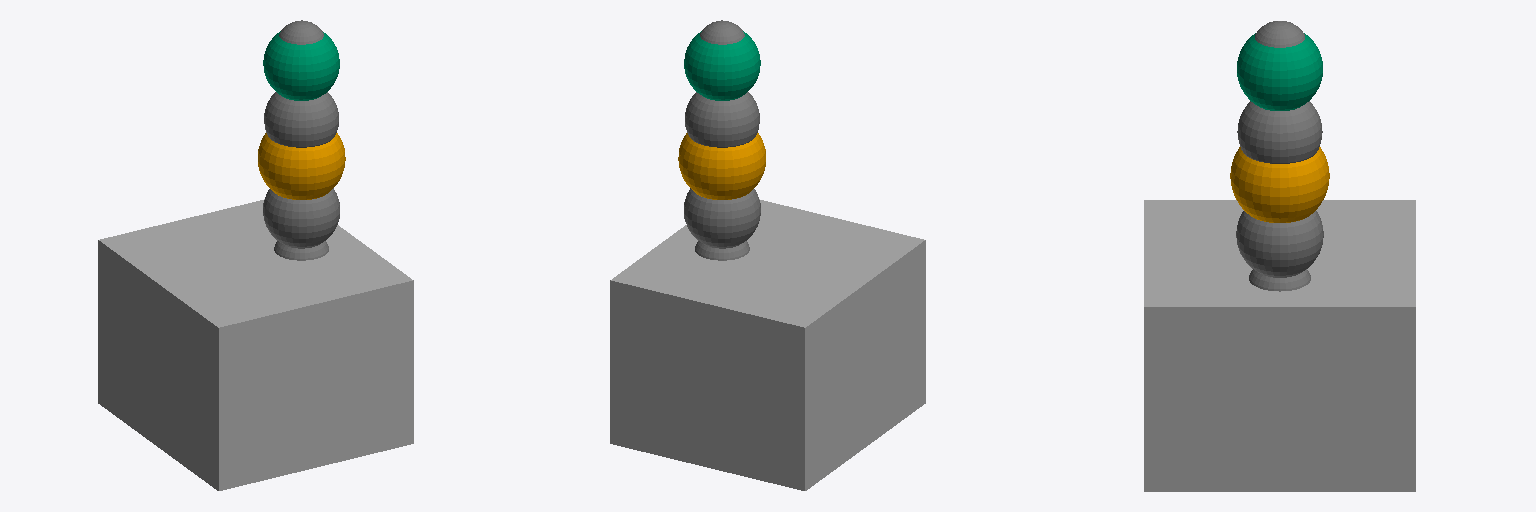
URDF robot description (hyuspa):
<?xml version="1.0" ?>
<robot name="hyuspa">
  <link name="world">
      <inertial>
          <mass value="0.000001" />
          <origin xyz="0.0 0.0 0.0" rpy="0 0 0" />
          <inertia ixx="0.000001" ixy="0" ixz="0" iyy="0.000001" iyz="0" izz="0.000001" />
      </inertial>
  </link>
   <joint name="lin_x_joint" type="fixed">
    <origin rpy="0 0 0" xyz="0 0 0"/>
    <axis xyz="1 0 0"/>
    <limit effort="1000.0" lower="-1e+16" upper="1e+16" velocity="3.5"/>
    <joint_properties damping="1" friction="1"/>
    <parent link="world"/>
    <child link="lin_x_link"/>
  </joint>
  <link name="lin_x_link">
      <inertial>
          <mass value="0.000001" />
          <origin xyz="0.0 0.0 0.0" rpy="0 0 0" />
          <inertia ixx="0.000001" ixy="0" ixz="0" iyy="0.000001" iyz="0" izz="0.000001" />
      </inertial>
  </link>
  <joint name="lin_y_joint" type="fixed">
    <origin rpy="0 0 0" xyz="0 0 0"/>
    <axis xyz="0 1 0"/>
    <limit effort="1000.0" lower="-1e+16" upper="1e+16" velocity="3.5"/>
    <joint_properties damping="1" friction="1"/>
    <parent link="lin_x_link"/>
    <child link="lin_y_link"/>
  </joint>
  <link name="lin_y_link">
      <inertial>
          <mass value="0.000001" />
          <origin xyz="0.0 0.0 0.0" rpy="0 0 0" />
          <inertia ixx="0.000001" ixy="0" ixz="0" iyy="0.000001" iyz="0" izz="0.000001" />
      </inertial>
  </link>
  <joint name="rot_z_joint" type="fixed">
    <origin rpy="0 0 0" xyz="0 0 0"/>
    <axis xyz="0 0 1"/>
    <limit effort="1000.0" lower="-1e+16" upper="1e+16" velocity="3.5"/>
    <joint_properties damping="1" friction="1"/>
    <parent link="lin_y_link"/>
    <child link="base_link"/>
  </joint>
    <link name="base_link">
      <inertial>
          <mass value="0.000001" />
          <origin xyz="0.0 0.0 0.0" rpy="0 0 0" />
          <inertia ixx="0.000001" ixy="0" ixz="0" iyy="0.000001" iyz="0" izz="0.000001" />
      </inertial>
  </link>
  <joint name="world_to_base_joint" type="fixed">
      <axis xyz="0 1 0"/>
    <parent link="base_link"/>
    <child link="Mobile_base"/>
    <origin rpy="0 0 0" xyz="0 0 0"/>
  </joint>
  
  <link name="Mobile_base">
    <inertial>
      <origin rpy="0 0 0" xyz="0.0 0 0.0"/>
      <mass value="20"/>
	<inertia  ixx="0.6364809810908426" ixy="0" ixz="0" iyy="0.548438298901579" iyz="0" izz="1.0998113136639867" />


    </inertial>
    <visual>
      <origin rpy="0 0 0" xyz="0 0 0"/>
      <geometry>
        <mesh filename="mesh/mobile_base.stl" scale="1 1 1"/>
      </geometry>
            <material name="lightgray">
        <color rgba="0.7 0.7 0.7 1"/>
      </material>
    </visual>
    <collision>
      <origin rpy="0 0 0" xyz="0 0 0"/>
	   <geometry>
           <mesh filename="mesh/mobile_base.stl" scale="1 1 1"/>
	   </geometry>
		</collision>
  </link>
  
  
  
<link name="left_front_wheel">
		<inertial>
			<origin rpy="0.00000 -0.00000 0.00000" xyz="0.00000 0.00000 0.00000"/>
						<mass value="2.00000"/>
<inertia  ixx="0.004202690800558223" ixy="0" ixz="0" iyy="0.00760033113725996" iyz="0" izz="0.004202690800558223" />

		</inertial>
		<visual>
			<origin rpy="0.00000 -0.00000 0.00000" xyz="0.00000 0.00000 0.00000"/>
			<geometry>
				<mesh filename="mesh/wheel.stl" scale="1.00000 1.00000 1.00000"/>
			</geometry>
		   	 <material name="dark">
	    		    <color rgba="0.3 0.3 0.3 1"/>
	     		 </material>

		</visual>
		<collision>
			<origin rpy="0.00000 -0.00000 0.00000" xyz="0.00000 0.00000 0.00000"/>
			<geometry>
                              <sphere radius="0.0755"/>
			</geometry>
		</collision>
</link>
<link name="right_front_wheel">
		<inertial>
			<origin rpy="0.00000 -0.00000 0.00000" xyz="0.00000 0.00000 0.00000"/>
			<mass value="2.00000"/>
<inertia  ixx="0.004202690800558223" ixy="0" ixz="0" iyy="0.00760033113725996" iyz="0" izz="0.004202690800558223" />

		</inertial>
		<visual>
			<origin rpy="0.00000 -0.00000 0.00000" xyz="0.00000 0.00000 0.00000"/>
			<geometry>
				<mesh filename="mesh/wheel.stl" scale="1.00000 1.00000 1.00000"/>
			</geometry>
		   	 <material name="dark">
	    		    <color rgba="0.3 0.3 0.3 1"/>
	     		 </material>

		</visual>
		<collision>
			<origin rpy="0.00000 -0.00000 0.00000" xyz="0.00000 0.00000 0.00000"/>
			<geometry>
                              <sphere radius="0.0755"/>
			</geometry>
		</collision>
</link>
<link name="left_back_wheel">
		<inertial>
			<origin rpy="0.00000 -0.00000 0.00000" xyz="0.00000 0.00000 0.00000"/>
						<mass value="2.00000"/>
<inertia  ixx="0.004202690800558223" ixy="0" ixz="0" iyy="0.00760033113725996" iyz="0" izz="0.004202690800558223" />

		</inertial>
		<visual>
			<origin rpy="0.00000 -0.00000 0.00000" xyz="0.00000 0.00000 0.00000"/>
			<geometry>
				<mesh filename="mesh/wheel.stl" scale="1.00000 1.00000 1.00000"/>
			</geometry>
		   	 <material name="dark">
	    		    <color rgba="0.3 0.3 0.3 1"/>
	     		 </material>

		</visual>
		<collision>
			<origin rpy="0.00000 -0.00000 0.00000" xyz="0.00000 0.00000 0.00000"/>
			<geometry>
                              <sphere radius="0.0755"/>
			</geometry>
		</collision>
</link>
<link name="right_back_wheel">
		<inertial>
			<origin rpy="0.00000 -0.00000 0.00000" xyz="0.00000 0.00000 0.00000"/>
						<mass value="2.00000"/>
<inertia  ixx="0.004202690800558223" ixy="0" ixz="0" iyy="0.00760033113725996" iyz="0" izz="0.004202690800558223" />

		</inertial>
		<visual>
			<origin rpy="0.00000 -0.00000 0.00000" xyz="0.00000 0.00000 0.00000"/>
			<geometry>
				<mesh filename="mesh/wheel.stl" scale="1.00000 1.00000 1.00000"/>
			</geometry>
		   	 <material name="dark">
	    		    <color rgba="0.3 0.3 0.3 1"/>
	     		 </material>

		</visual>
		<collision>
			<origin rpy="0.00000 -0.00000 0.00000" xyz="0.00000 0.00000 0.00000"/>
			<geometry>
                              <sphere radius="0.0755"/>
			</geometry>
		</collision>
</link>
	<joint name="left_front_wheel_joint" type="fixed">
		<parent link="Mobile_base"/>
		<child link="left_front_wheel"/>
		<dynamics damping="1.0" friction="0.01"/>
		<origin rpy="0 0.00000 0.00000" xyz="-0.20100 0.29320 0.0755"/>
		<axis xyz="0.00000 0.00000 1.00000"/>
	</joint>
  	<joint name="right_front_wheel_joint" type="fixed">
		<parent link="Mobile_base"/>
		<child link="right_front_wheel"/>
		<dynamics damping="1.0" friction="0.01"/>
		<origin rpy="0 -0.00000 0.00000" xyz="-0.20100 -0.29320 0.0755"/>
		<axis xyz="0.00000 0.00000 1.00000"/>
	</joint>
	<joint name="left_back_wheel_joint" type="fixed">
		<parent link="Mobile_base"/>
		<child link="left_back_wheel"/>
		<dynamics damping="1.0" friction="0.01"/>
		<origin rpy="0 0.00000 0.00000" xyz="0.20100 0.29320 0.0755"/>
		<axis xyz="0.00000 0.00000 1.00000"/>
	</joint>	
  	<joint name="right_back_wheel_joint" type="fixed">
		<parent link="Mobile_base"/>
		<child link="right_back_wheel"/>
		<dynamics damping="1.0" friction="0.01"/>
		<origin rpy="0 -0.00000 0.00000" xyz="0.20100 -0.29320 0.0755"/>
		<axis xyz="0.00000 0.00000 1.00000"/>
	</joint>
  
    
  
  
  
  
  <joint name="Mobile_to_profile" type="fixed">
      <axis xyz="0 1 0"/>
    <parent link="Mobile_base"/>
    <child link="Base_profile"/>
    <origin rpy="0 0 1.57" xyz="0.1595 0 0.191"/>
  </joint>
  
 <joint name="Base_battery_joint" type="fixed">
      <axis xyz="0 0 1"/>
    <parent link="Mobile_base"/>
    <child link="Battery"/>
    <origin rpy="0 0 0" xyz="0 0 0.191"/>
  </joint>
<link name="Battery">
    <inertial>
      <origin rpy="0 0 0" xyz="0.0 0 0.0"/>
      <mass value="10"/>
		<inertia  ixx="0.19885759196781463" ixy="0" ixz="0" iyy="0.06527160403076862" iyz="0" izz="0.23385201533248226" />


    </inertial>
    <visual>
      <origin rpy="0 0 0" xyz="0 0 0"/>
      <geometry>
        <mesh filename="mesh/battery.stl" scale="1 1 1"/>
      </geometry>
            <material name="green">
        <color rgba="0.3 0.6 0.3 1"/>
      </material>
    </visual>
    <collision>
      <origin rpy="0 0 0" xyz="0 0 0"/>
	   <geometry>
           <mesh filename="mesh/battery.stl" scale="1 1 1"/>
	   </geometry>
		</collision>
  </link>





<link name="Base_profile">
    <inertial>
      <origin rpy="0 0 0" xyz="0.0 0 0.0"/>
      <mass value="2"/>
      <inertia  ixx="0.011483333484331771" ixy="0" ixz="0" iyy="0.011483333285649617" iyz="0" izz="0.0021333334366480565" />


    </inertial>
    <visual>
      <origin rpy="0 0 0" xyz="0 0 0"/>
      <geometry>
        <mesh filename="mesh/base_profile.stl" scale="1 1 1"/>
      </geometry>
            <material name="lightgray">
        <color rgba="0.7 0.7 0.7 1"/>
      </material>
    </visual>
    <collision>
      <origin rpy="0 0 0" xyz="0 0 0"/>
	   <geometry>
           <mesh filename="mesh/base_profile.stl" scale="1 1 1"/>
	   </geometry>
		</collision>
  </link>

 
<joint name="Base_profile_joint" type="fixed">
      <axis xyz="0 0 1"/>
    <parent link="Base_profile"/>
    <child link="FT_sensor1"/>
    <origin rpy="0 0 0" xyz="0 0 0.25"/>
  </joint>
  
  
    <link name="FT_sensor1">
    <inertial>
      <origin rpy="0 0 0" xyz="0.0 0 0.0"/>
      <mass value="0.50"/>
		<inertia  ixx="0.00037817710459232357" ixy="0" ixz="0" iyy="0.0004919276651402816" iyz="0" izz="0.0006740839248359706" />


    </inertial>
    <visual>
      <origin rpy="0 0 0" xyz="0 0 0"/>
      <geometry>
        <mesh filename="mesh/FT_sensor1.stl" scale="1 1 1"/>
      </geometry>
            <material name="orange">
        <color rgba="1 0.5 0.5 1"/>
      </material>
    </visual>
    <collision>
      <origin rpy="0 0 0" xyz="0 0 0"/>
	   <geometry>
           <mesh filename="mesh/FT_sensor1.stl" scale="1 1 1"/>
	   </geometry>
		</collision>
  </link>

<joint name="FT_sensor_joint1" type="fixed">
      <axis xyz="0 0 1"/>
    <parent link="FT_sensor1"/>
    <child link="FT_sensor2"/>
    <origin rpy="0 0 0" xyz="0 0 0.0435"/>
  </joint>
  
      <link name="FT_sensor2">
    <inertial>
      <origin rpy="0 0 0" xyz="0.0 0 0.049473"/>
      <mass value="0.10"/>
	<inertia  ixx="5.434167420566109e-05" ixy="0" ixz="0" iyy="5.434167420566109e-05" iyz="0" izz="0.00010666668176651054" />

    </inertial>
    <visual>
      <origin rpy="0 0 0" xyz="0 0 0"/>
      <geometry>
        <mesh filename="mesh/FT_sensor2.stl" scale="1 1 1"/>
      </geometry>
            <material name="orange">
        <color rgba="1 0.5 0.5 1"/>
      </material>
    </visual>
    <collision>
      <origin rpy="0 0 0" xyz="0 0 0"/>
	   <geometry>
           <mesh filename="mesh/FT_sensor2.stl" scale="1 1 1"/>
	   </geometry>
		</collision>
  </link>
<joint name="FT_sensor_joint2" type="fixed">
      <axis xyz="0 0 1"/>
    <parent link="FT_sensor2"/>
    <child link="SPA_Base_Link"/>
    <origin rpy="0 0 0" xyz="0 0 0.011"/>
  </joint>
  

  <link name="SPA_Base_Link">
    <inertial>
      <origin rpy="0 0 0" xyz="0.0 0 0.049473"/>
      <mass value="0.70"/>
       <inertia  ixx="0.0010029327106437908" ixy="0" ixz="0" iyy="0.0010029327106437908" iyz="0" izz="0.0007466666332880659" />

    </inertial>
    <visual>
      <origin rpy="0 0 0" xyz="0 0 0"/>
      <geometry>
        <mesh filename="mesh/SPA_Base_Link_.stl" scale="1 1 1"/>
      </geometry>
            <material name="darkgray">
        <color rgba="0.5 0.5 .5 1"/>
      </material>
    </visual>
    <collision>
      <origin rpy="0 0 0" xyz="0 0 0"/>
	   <geometry>
           <mesh filename="mesh/SPA_Base_Link_.stl" scale="1 1 1"/>
	   </geometry>
		</collision>
  </link>

 <joint name="Arm_Joint_1" type="revolute">
    <axis xyz="0 0 1"/>
    <limit effort="50" lower="-2.63" upper="1.57" velocity="4"/>
    <origin rpy="0 0 0" xyz="0 0 0.1007"/>
    <!--<origin rpy="0 0 0" xyz="0 -0.3107 1.567"/>-->
    <parent link="SPA_Base_Link"/>
    <child link="SPA_Link_01"/>
    <dynamics damping="0.0" friction="0.7"/>
  </joint>

  <link name="SPA_Link_01">
    <inertial>
      <mass value="0.63842732"/>
      <origin rpy="0 0 0" xyz="0.001501 0 0.042572"/>
      <inertia  ixx="0.0006373691668954742" ixy="0" ixz="0" iyy="0.000849839011803842" iyz="0" izz="0.0006631363980959179" />
    </inertial>
    <visual>
      <origin rpy="0 0 0" xyz="0 0 0"/>
      <geometry>
        <mesh filename="mesh/SPA_Link_01_.stl" scale="1 1 1"/>
      </geometry>
    </visual>
    <collision>
      <origin rpy="0 0 0" xyz="0 0 0"/>
      <geometry>
        <mesh filename="mesh/SPA_Link_01_.stl" scale="1 1 1"/>
      </geometry>
    </collision>
  </link>
  
   <joint name="Arm_Joint_2" type="revolute">
    <axis xyz="1 0 0"/>
    <limit effort="50" lower="-0.6981" upper="1.9" velocity="4"/>
    <origin rpy="0 0 0" xyz="0  0 0.054"/>
    <parent link="SPA_Link_01"/>
    <child link="SPA_Link_02"/>
  </joint>

  <link name="SPA_Link_02">
    <inertial>
      <mass value="0.60158865"/>
      <origin rpy="0 0 0" xyz="0.000454 0.002601 0.084558"/>
	<inertia  ixx="0.0019298351729750375" ixy="0" ixz="0" iyy="0.002139570417456227" iyz="0" izz="0.0007101707589097746" />

    </inertial>
    <visual>
      <origin rpy="0 0 0" xyz="0 0 0"/>
      <geometry>
        <mesh filename="mesh/SPA_Link_02_.stl" scale="1 1 1"/>
      </geometry>
       <material name="darkgray">
        <color rgba="0.5 0.5 .5 1"/>
      </material>
    </visual>
        <collision>
			<origin rpy="0.00000 -0.00000 0.00000" xyz="0.00000 0.00000 0.00000"/>
			<geometry>
              <mesh filename="mesh/SPA_Link_02_.stl" scale="1 1 1"/>
			</geometry>
		</collision>
  </link>

  <joint name="Arm_Joint_3" type="revolute">
    <axis xyz="0 0 1"/>
    <limit effort="50" lower="-1.34" upper="1.09" velocity="2.4"/>
    <origin rpy="0 0 0" xyz="0 0 0.1458"/>
    <parent link="SPA_Link_02"/>
    <child link="SPA_Link_03"/>
    <dynamics damping="0.0" friction="0.7"/>
  </joint>

  <link name="SPA_Link_03">
    <inertial>
      <mass value="0.74955005"/>
      <origin rpy="0 0 0" xyz="-0.002133 -0.000212 0.098828"/>
<inertia  ixx="0.002611807753540268" ixy="0" ixz="0" iyy="0.0024847824484913357" iyz="0" izz="0.0006518819145580365" />

    </inertial>
    <visual>
      <origin rpy="0 0 0" xyz="0 0 0"/>
      <geometry>
        <mesh filename="mesh/SPA_Link_03_.stl" scale="1 1 1"/>
      </geometry>
    </visual>
  <collision>
			<origin rpy="0.00000 -0.00000 0.00000" xyz="0.00000 0.00000 0.00000"/>
			<geometry>
        <mesh filename="mesh/SPA_Link_03_.stl" scale="1 1 1"/>
			</geometry>
		</collision>


  </link>
  <joint name="Arm_Joint_4" type="revolute">
    <axis xyz="0 1 0"/>
    <limit effort="50" lower="-0.156" upper="2.48" velocity="4"/>
    <origin rpy="0 0 0" xyz="0 0 0.1542 "/>
    <parent link="SPA_Link_03"/>
    <child link="SPA_Link_04"/>
    <dynamics damping="0.0" friction="0.7"/>
  </joint>
  
  <link name="SPA_Link_04">
    <inertial>
      <mass value="0.57916453"/>
      <origin rpy="0 0 0" xyz="0.002354 -0.00032 0.094781"/>
<inertia  ixx="0.001961136896341702" ixy="0" ixz="0" iyy="0.0018738900658110185" iyz="0" izz="0.0005885963056886639" />

    </inertial>
    <visual>
      <origin rpy="0 0 0" xyz="0 0 0"/>
      <geometry>
        <mesh filename="mesh/SPA_Link_04_.stl" scale="1 1 1"/>
      </geometry>
             <material name="darkgray">
        <color rgba="0.5 0.5 .5 1"/>
      </material>
    </visual>
  <collision>
			<origin rpy="0.00000 -0.00000 0.00000" xyz="0.00000 0.00000 0.00000"/>
			<geometry>
        <mesh filename="mesh/SPA_Link_04_.stl" scale="1 1 1"/>
			</geometry>
		</collision>


  </link>
   <joint name="Arm_Joint_5" type="revolute">
    <axis xyz="0 0 1"/>
    <limit effort="50" lower="-3.14" upper="3.14" velocity="4"/>
    <origin rpy="0 0 0" xyz="0 0 0.1458 "/>
    <parent link="SPA_Link_04"/>
    <child link="SPA_Link_05"/>
    <dynamics damping="0.0" friction="0.7"/>
  </joint>
 
  <link name="SPA_Link_05">
    <inertial>
      <mass value="0.74955005"/>
      <origin rpy="0 0 0" xyz="0 0.002249 0.09774"/>
<inertia  ixx="0.002377289656318586" ixy="0" ixz="0" iyy="0.002377289656318586" iyz="0" izz="0.0005201310076938109" />
    </inertial>
    <visual>
      <origin rpy="0 0 0" xyz="0 0 0"/>
      <geometry>
        <mesh filename="mesh/SPA_Link_05_.stl" scale="1 1 1"/>
      </geometry>
    </visual>
  <collision>
			<origin rpy="0.00000 -0.00000 0.00000" xyz="0.00000 0.00000 0.00000"/>
			<geometry>
        <mesh filename="mesh/SPA_Link_05_.stl" scale="1 1 1"/>
			</geometry>
		</collision>

  </link>
  
   <joint name="Arm_Joint_6" type="revolute">
    <axis xyz="1 0 0"/>
    <limit effort="50" lower="-1.41" upper="1.392" velocity="4"/>
    <origin rpy="0 0 0" xyz="0 0 0.1542 "/>
    <parent link="SPA_Link_05"/>
    <child link="SPA_Link_06"/>
    <dynamics damping="0.0" friction="0.7"/>
  </joint>

  <link name="SPA_Link_06">
    <inertial>
      <mass value="0.59063954"/>
      <origin rpy="0 0 0" xyz="0.000084 -0.001022 0.00897"/>
<inertia  ixx="0.0018732855385104271" ixy="0" ixz="0" iyy="0.0018732855385104271" iyz="0" izz="0.0004098591403255979" />
    </inertial>
    <visual>
      <origin rpy="0 0 0" xyz="0 0 0"/>
      <geometry>
        <mesh filename="mesh/SPA_Link_06_.stl" scale="1 1 1"/>
      </geometry>
             <material name="darkgray">
        <color rgba="0.5 0.5 .5 1"/>
      </material>
    </visual>
  <collision>
			<origin rpy="0.00000 -0.00000 0.00000" xyz="0.00000 0.00000 0.00000"/>
			<geometry>
        <mesh filename="mesh/SPA_Link_06_.stl" scale="1 1 1"/>
			</geometry>
		</collision>

  </link>
</robot>

--- Facts derived from the render (not from the file) ---
3 views of the same robot in one strip: view 1: azimuth 30°, elevation 25°; view 2: azimuth 150°, elevation 25°; view 3: azimuth 270°, elevation 25° (orthographic).
Model hyuspa with 20 links and 19 joints (6 revolute, 13 fixed), rooted at world, posed all joints at 0.
Visible links, largest first — view 1: Mobile_base, SPA_Link_03, SPA_Link_05, SPA_Link_02, SPA_Link_04, SPA_Link_06, SPA_Base_Link; view 2: Mobile_base, SPA_Link_03, SPA_Link_05, SPA_Link_02, SPA_Link_04, SPA_Link_06, SPA_Base_Link; view 3: Mobile_base, SPA_Link_03, SPA_Link_05, SPA_Link_02, SPA_Link_04, SPA_Link_06, SPA_Base_Link.
Link boxes in pixels (bbox=[...]): Mobile_base: bbox=[98, 199, 413, 490]; SPA_Link_03: bbox=[258, 133, 345, 199]; SPA_Link_05: bbox=[263, 31, 339, 100]; SPA_Link_02: bbox=[263, 188, 339, 248]; SPA_Link_04: bbox=[264, 92, 338, 147]; SPA_Link_06: bbox=[279, 20, 323, 44]; SPA_Base_Link: bbox=[274, 241, 328, 260]; Mobile_base: bbox=[610, 199, 925, 490]; SPA_Link_03: bbox=[678, 133, 765, 199]; SPA_Link_05: bbox=[684, 31, 760, 100]; SPA_Link_02: bbox=[684, 188, 760, 248]; SPA_Link_04: bbox=[685, 92, 759, 147]; SPA_Link_06: bbox=[700, 20, 744, 44]; SPA_Base_Link: bbox=[695, 241, 749, 260]; Mobile_base: bbox=[1144, 200, 1415, 491]; SPA_Link_03: bbox=[1230, 147, 1329, 222]; SPA_Link_05: bbox=[1237, 33, 1322, 110]; SPA_Link_02: bbox=[1236, 211, 1323, 277]; SPA_Link_04: bbox=[1237, 101, 1322, 163]; SPA_Link_06: bbox=[1255, 21, 1304, 47]; SPA_Base_Link: bbox=[1249, 269, 1310, 291].
Size in the robot's own frame: 0.6821 by 0.7279 by 1.3 metres.
Meshes: 13 distinct files referenced, 8 mesh visuals loaded (8 binary STL); not drawn: 8 (reference not matched to a file when rendering).
